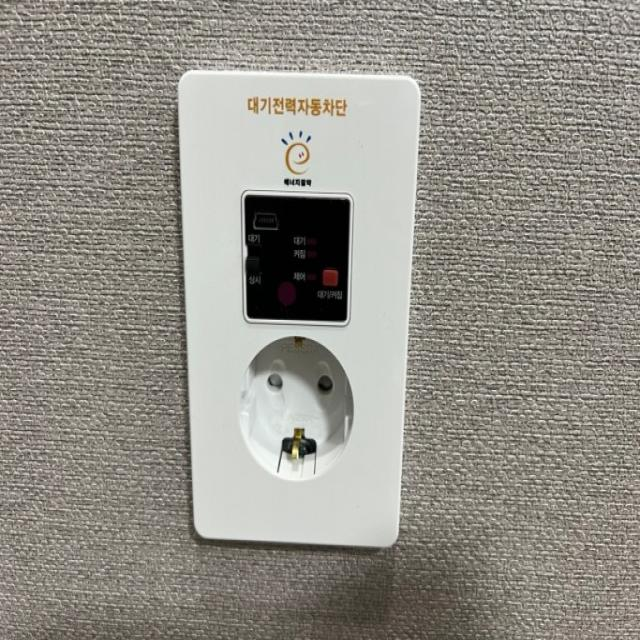typeb: (148, 23, 449, 583)
